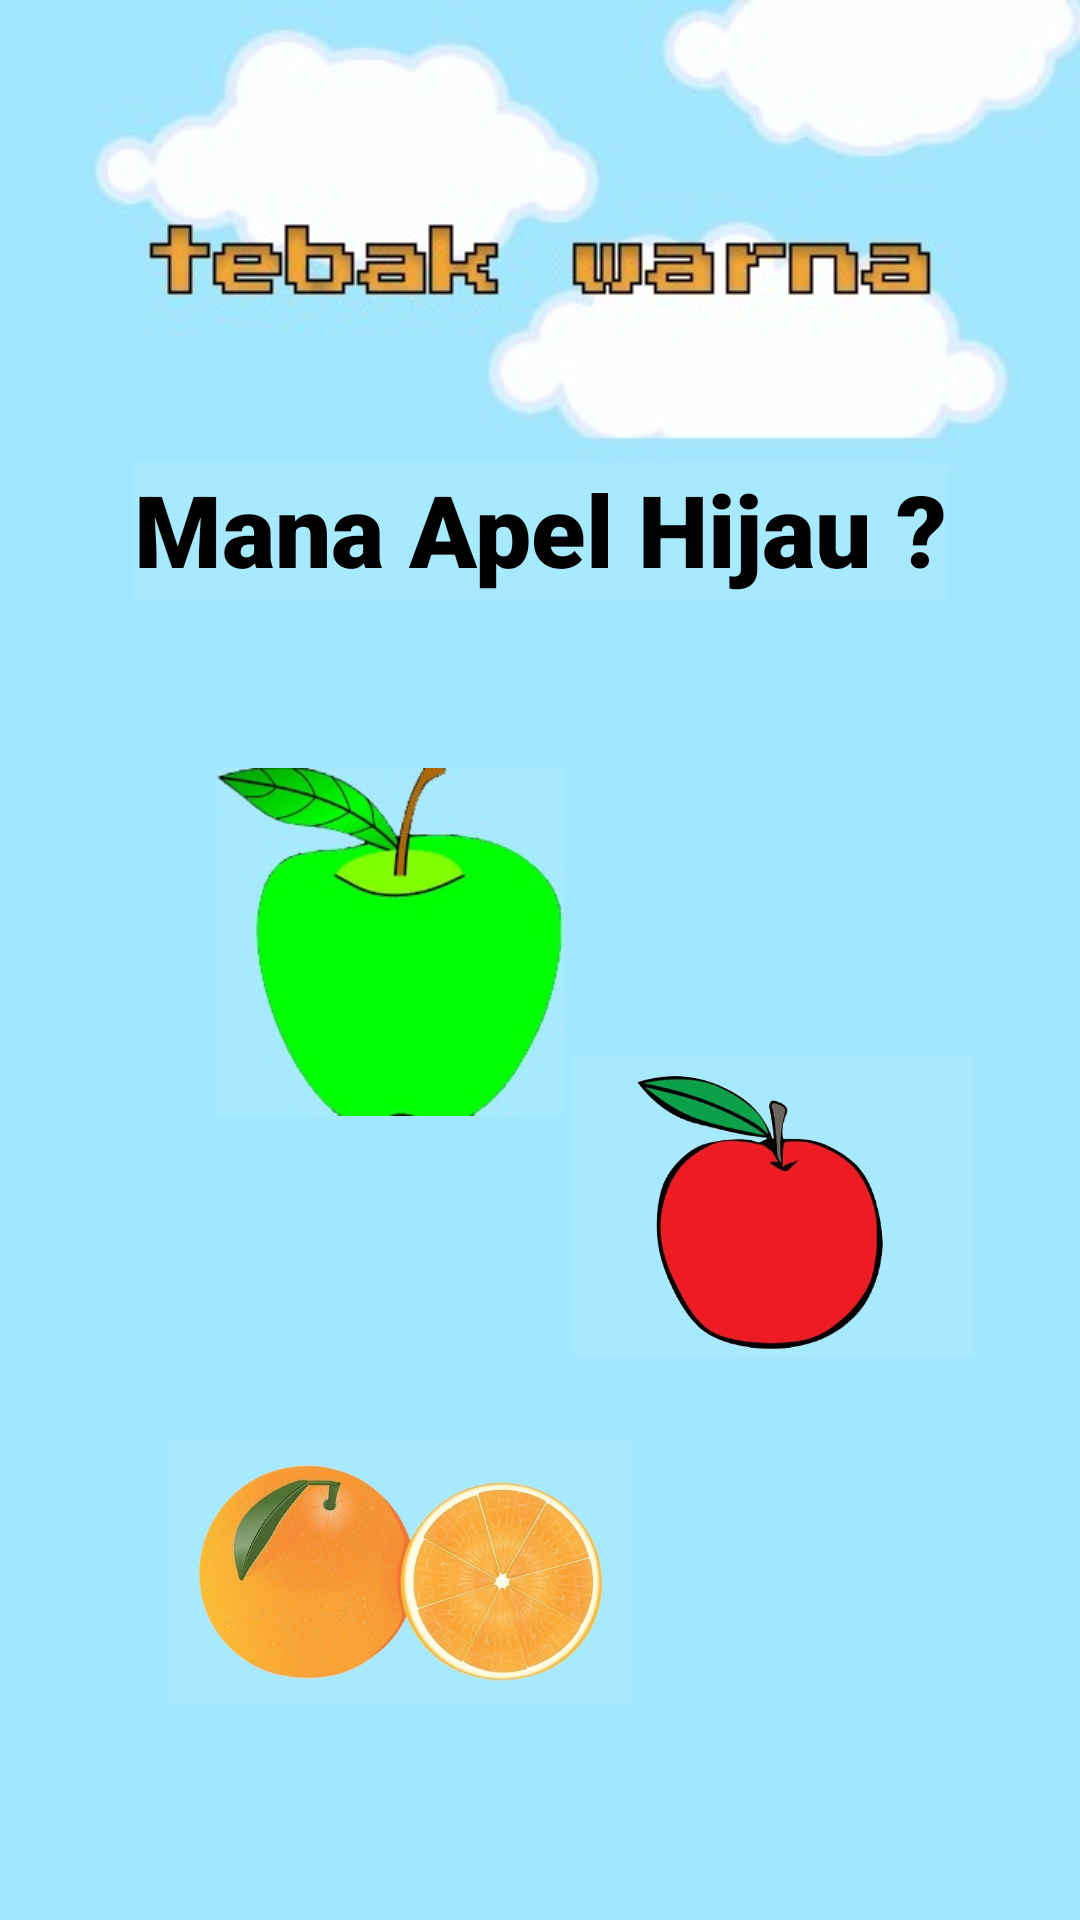

Icons on this 1080 x 1920 Android screen, each with its box as (x1, y1, x2, y2):
apelijo: (217, 768, 563, 1116)
apelmerah: (637, 1076, 883, 1349)
